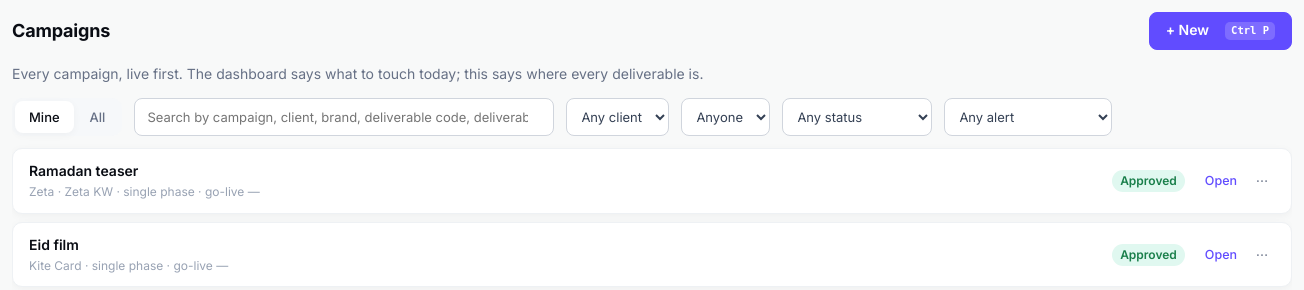
Test case: CampaignsPage — promote a single job (ADR-0086) › filters the list by the search box, over name, brand and client
Replace the text in the search field with test id "campaigns-search" with "kite" at [344, 117], box [134,98,554,136]
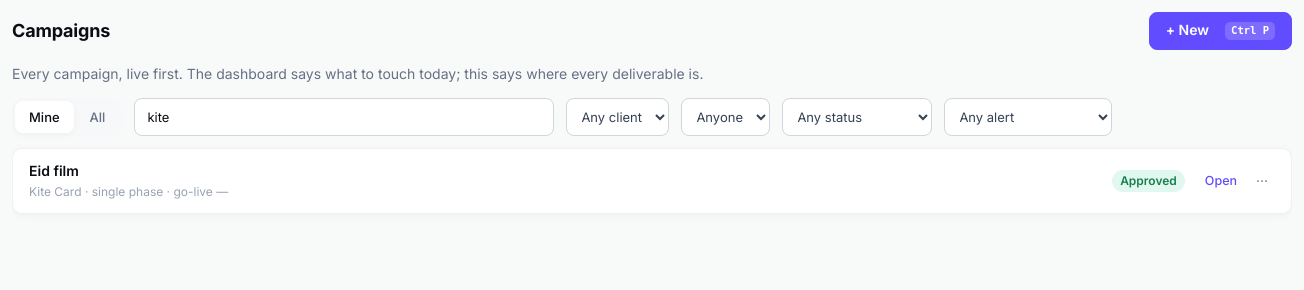
Check: the list item with test id "campaign-row-c2" is shown, box [12,148,1292,214]
Check: the list item with test id "campaign-row-c1" is gone
# A search that matches nothing says so, without the empty-product CTA.
Replace the text in the search field with test id "campaigns-search" with "zzz" at [344, 117], box [134,98,554,136]
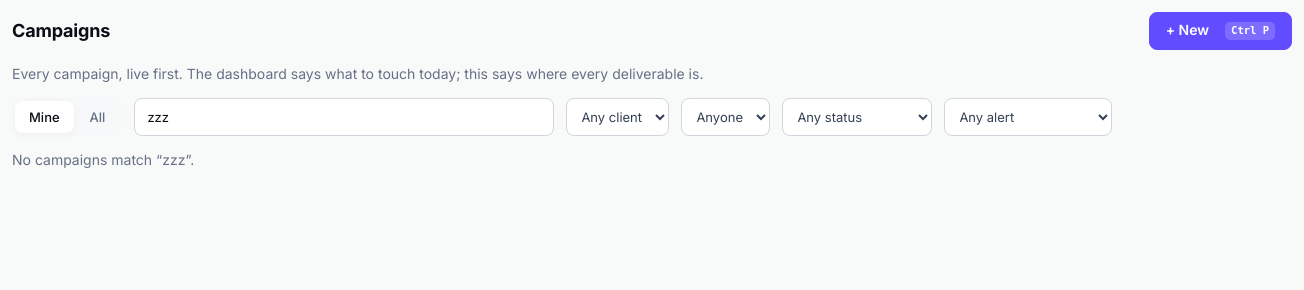
Check: the text "No campaigns match “zzz”." is shown, box [12,151,194,168]
